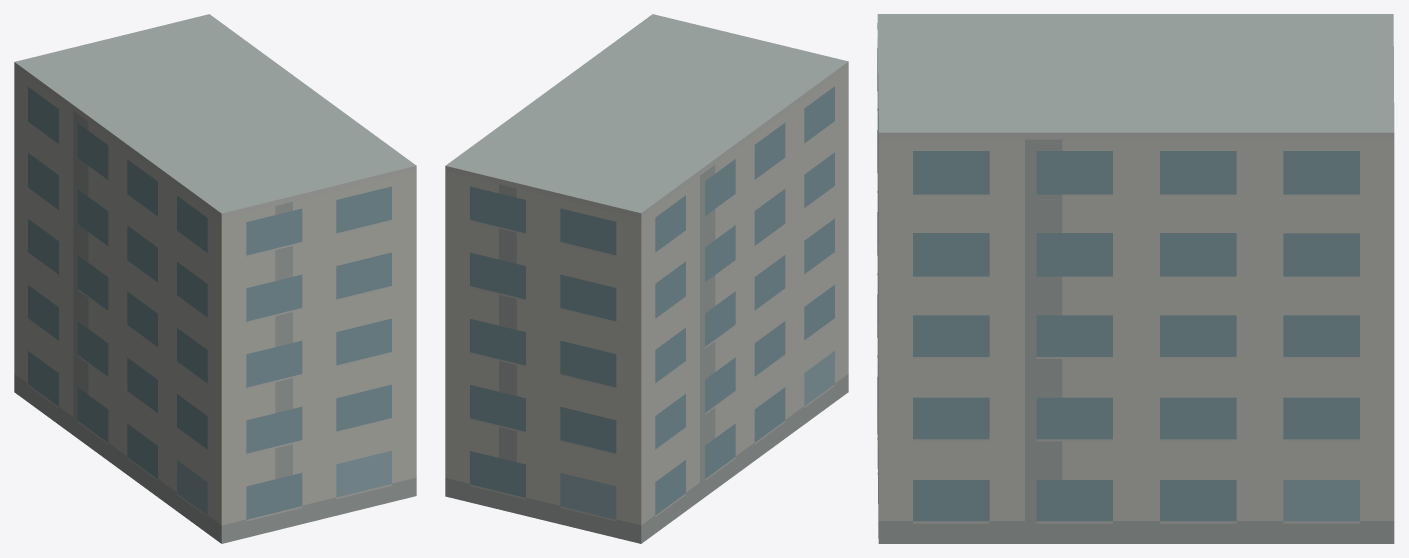
File: survey-upis-32990537.glb
3 views of the same model, side by side, from view 1: azimuth 30°, elevation 25°; view 2: azimuth 150°, elevation 25°; view 3: azimuth 270°, elevation 25° (orthographic). The views are drawn at different scales.
Parts seen in each view (by area): view 1: survey-upis-32990537.tmp; view 2: survey-upis-32990537.tmp; view 3: survey-upis-32990537.tmp.
Part boxes in pixels (<box>): survey-upis-32990537.tmp: <box>14,14,416,543</box>; survey-upis-32990537.tmp: <box>445,14,848,543</box>; survey-upis-32990537.tmp: <box>877,14,1394,543</box>.
Bounding box in the file's own units: 9.03 × 14.55 × 16.59.
